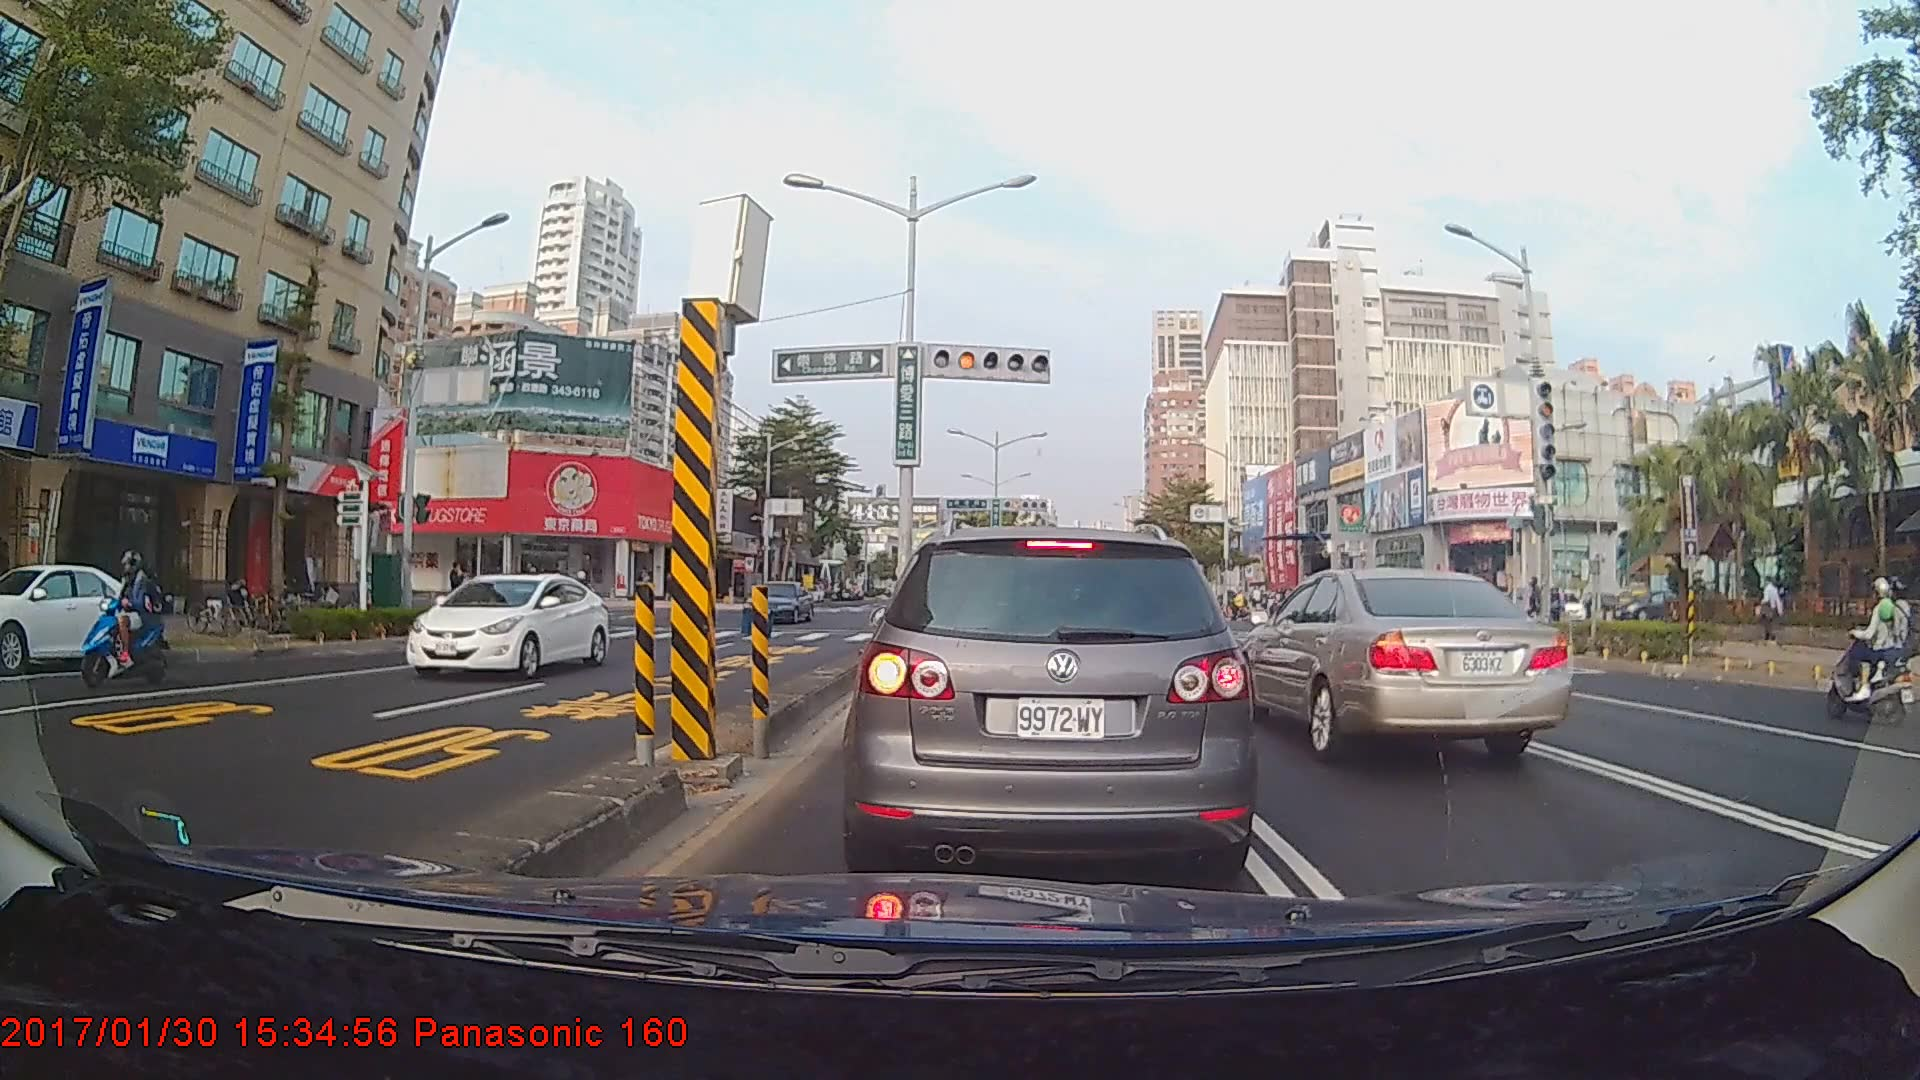pedestrian: (1757, 574, 1783, 647), (1484, 579, 1508, 637), (448, 558, 468, 621)
rider: (1819, 568, 1908, 722), (77, 549, 172, 693)
vehicle: (854, 521, 1248, 884), (1234, 564, 1571, 763), (403, 569, 606, 680), (0, 561, 177, 671), (740, 579, 813, 625)
